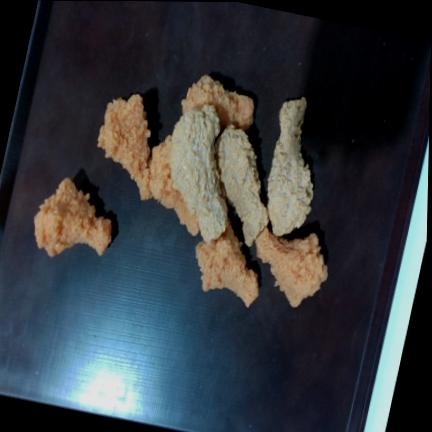chicken: (170, 105, 228, 242), (215, 125, 268, 246), (267, 97, 313, 236), (34, 178, 111, 256), (255, 228, 327, 307), (98, 94, 151, 200), (196, 222, 258, 307), (150, 136, 199, 236), (181, 74, 256, 132)
